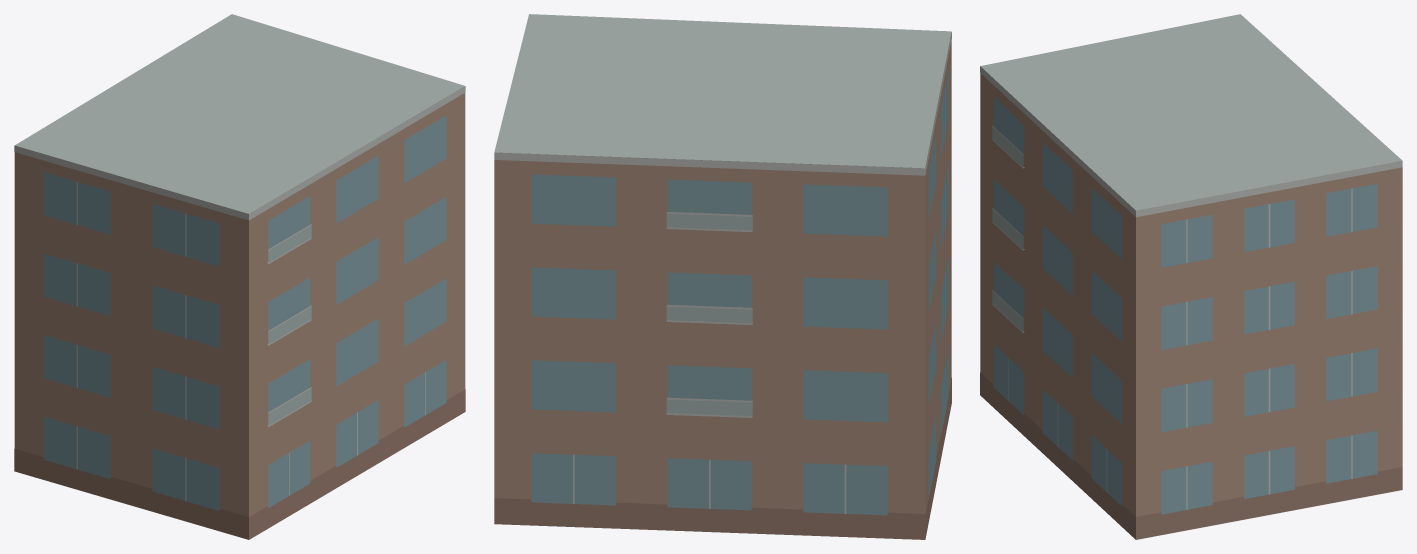
Rendered from survey-upis-32590943.glb.
The picture shows the model from 3 angles, left to right: view 1: azimuth 30°, elevation 25°; view 2: azimuth 150°, elevation 25°; view 3: azimuth 270°, elevation 25°; orthographic projection. The views are drawn at different scales.
Visible parts, largest first — view 1: survey-upis-32590943.tmp; view 2: survey-upis-32590943.tmp; view 3: survey-upis-32590943.tmp.
Boxes of the visible parts, x1,y1,x2,y2 form: survey-upis-32590943.tmp: (14,14,465,539); survey-upis-32590943.tmp: (494,14,951,539); survey-upis-32590943.tmp: (980,14,1402,539).
Size of the model in its own units: 15.65 by 12.2 by 14.2.
